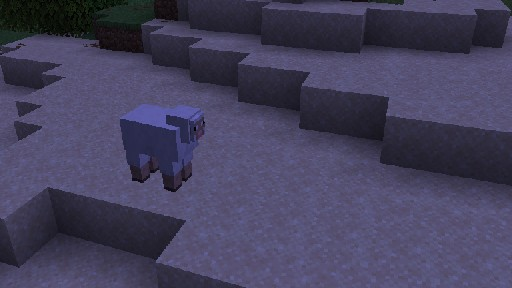sheep: (119, 103, 205, 192)
